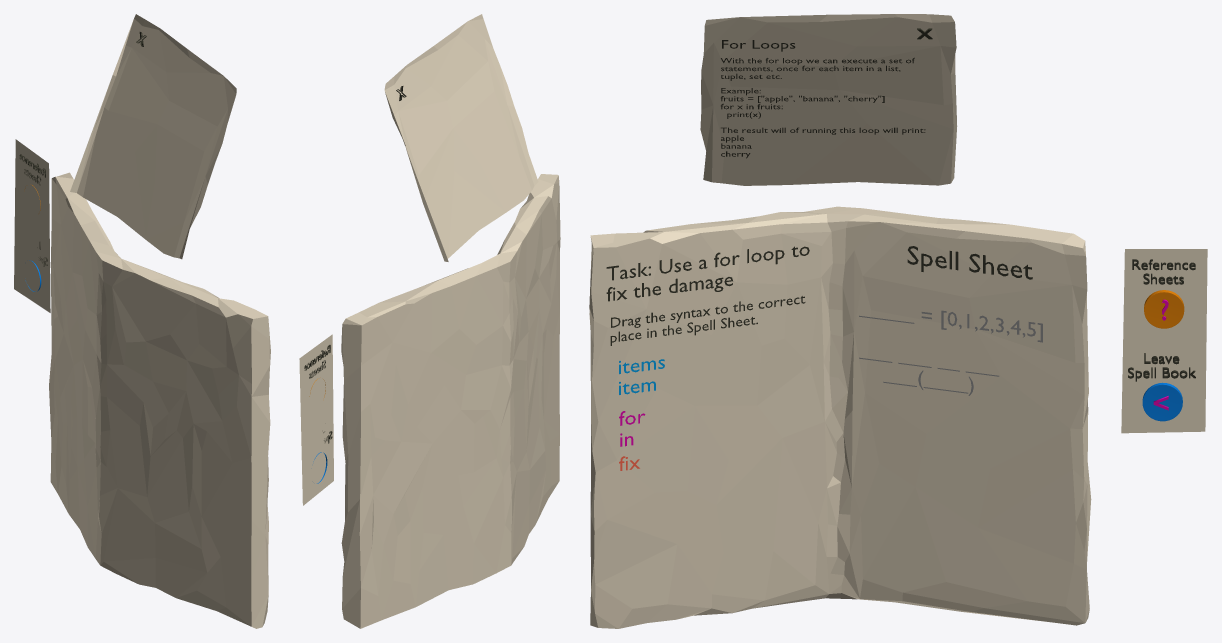
The model's file is SpellBook UI Static Demo.fbx.
3 renders of one model, left to right at view 1: azimuth 30°, elevation 25°; view 2: azimuth 150°, elevation 25°; view 3: azimuth 270°, elevation 25°, orthographic. The views are drawn at different scales.
Visible parts, largest first — view 1: Book.002; view 2: Book.002; view 3: Book.002.
Part boxes in pixels (x1=…): Book.002: x1=14, y1=14, x2=270, y2=628; Book.002: x1=299, y1=14, x2=560, y2=628; Book.002: x1=589, y1=14, x2=1207, y2=628.
Size of the model in its own units: 48.77 by 278 by 249.
